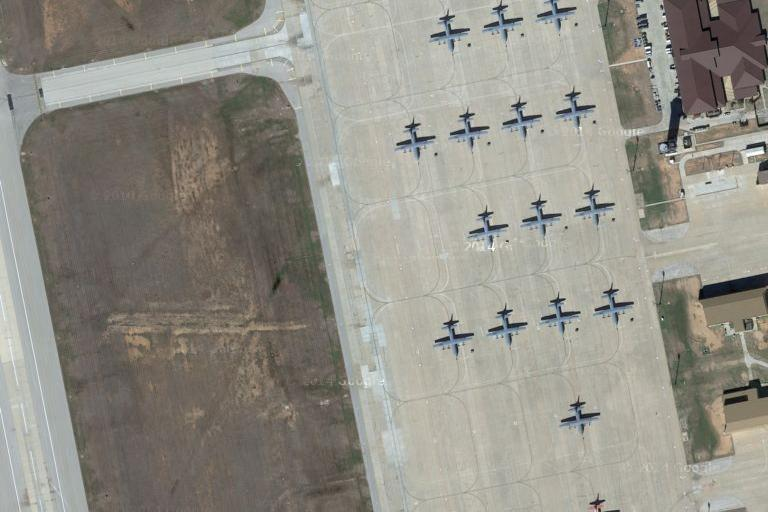C-130: (552, 91, 598, 131), (389, 123, 440, 159), (424, 15, 473, 52), (592, 285, 637, 325), (517, 201, 564, 239), (464, 211, 512, 248), (447, 110, 492, 149), (483, 309, 530, 346), (573, 188, 617, 227), (538, 297, 581, 335), (498, 102, 543, 138), (433, 321, 475, 358), (557, 400, 601, 435), (481, 6, 524, 40), (534, 1, 578, 30)
